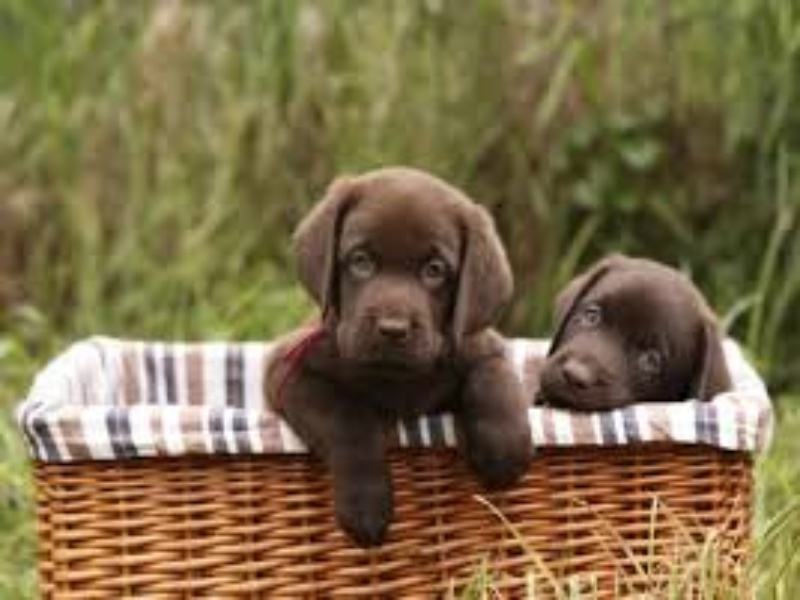dog: (230, 112, 556, 525)
